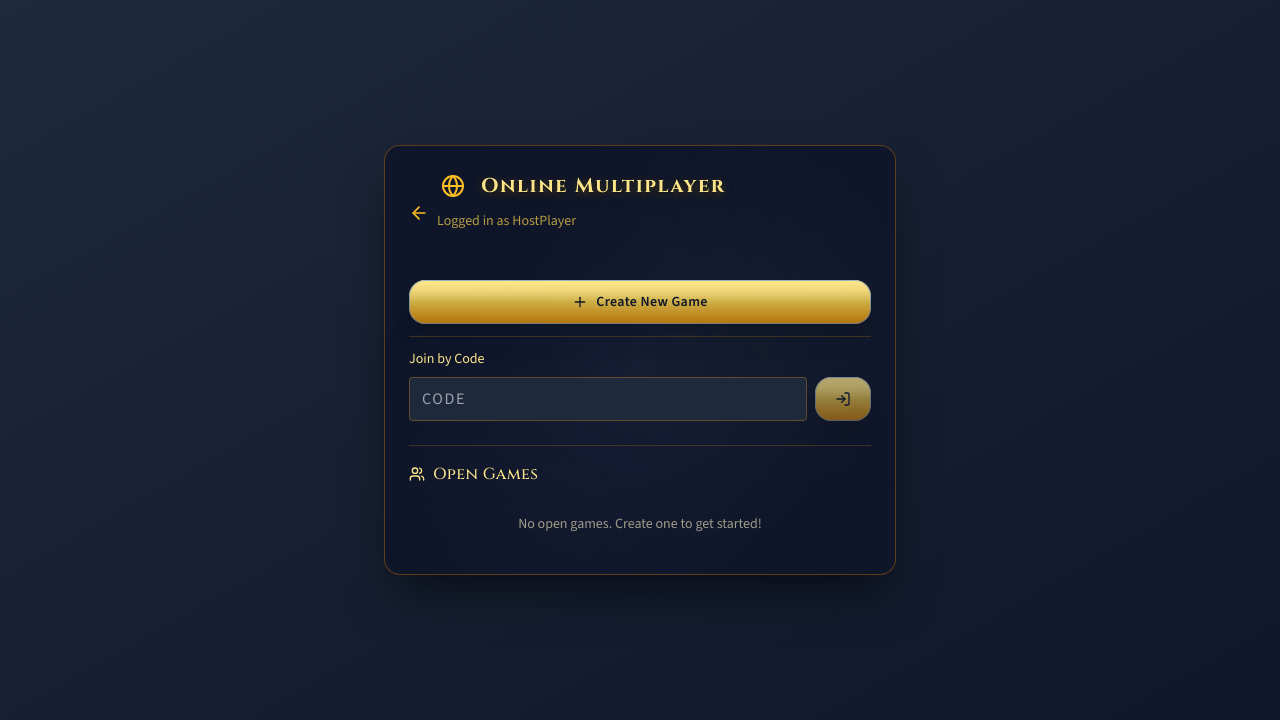
Scenario: LobbyList automation hooks › exposes stable selectors for joining and creating multiplayer lobbies
This screenshot has width=1280, height=720.
Expected: the field with test id "lobby-join-code-input" is shown, [409, 377, 807, 421]
Expected: the button with test id "lobby-join-code-submit" is shown, [815, 377, 871, 421]
Click the button with test id "lobby-create-button".
click(640, 302)  # box [409, 280, 871, 324]
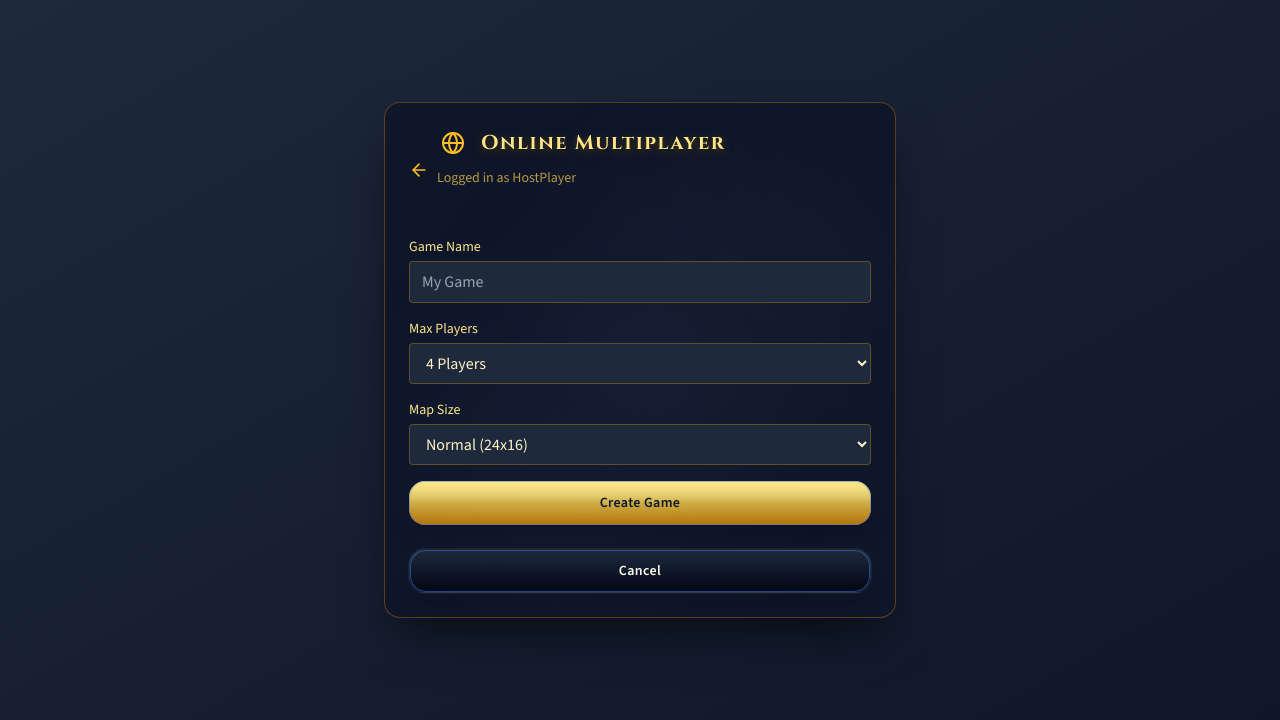
Now the field with test id "lobby-create-name-input" is shown, box [409, 261, 871, 303]
Now the dropdown with test id "lobby-create-max-players" is shown, box [409, 343, 871, 384]
Now the dropdown with test id "lobby-create-map-size" is shown, box [409, 424, 871, 465]
